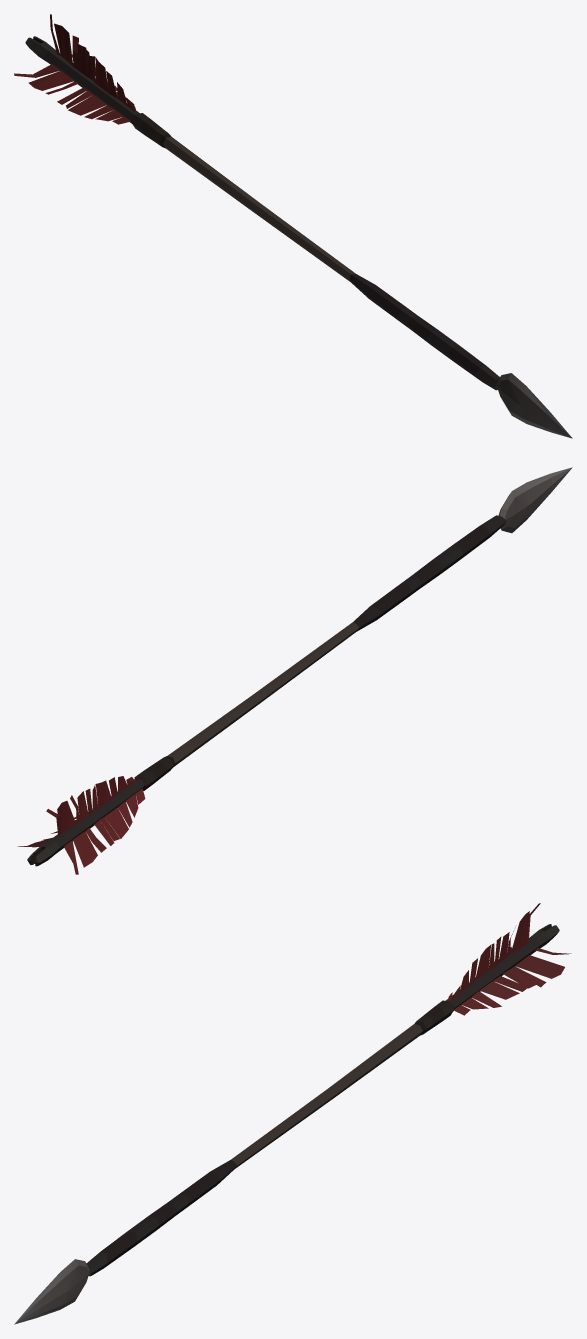
Rendered from vikingArrowSharp.glb.
3 renders of one model, top to bottom at view 1: azimuth 30°, elevation 25°; view 2: azimuth 150°, elevation 25°; view 3: azimuth 330°, elevation 25°, orthographic.
Visible parts, largest first — view 1: vikingArrowSharp; view 2: vikingArrowSharp; view 3: vikingArrowSharp.
Part boxes in pixels (x1,y1,x2,y2): vikingArrowSharp: (14,14,572,438); vikingArrowSharp: (17,467,572,874); vikingArrowSharp: (14,903,571,1324).
Bounding box in the file's own units: 0.0744 × 0.0648 × 1.03.
